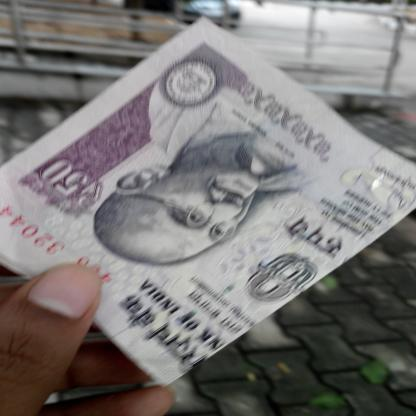Old50Front: (0, 15, 416, 389)
